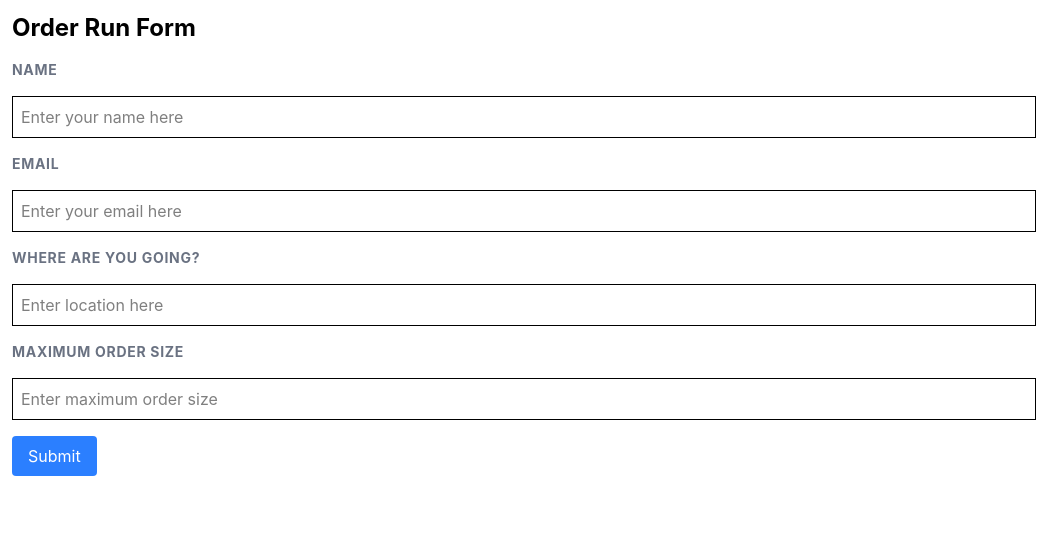
Scenario: OrderRunForm › shows a validation error and does not submit for an invalid email
Type "Alice" into the field with placeholder "Enter your name here" at (524,117), box [12,96,1036,138]
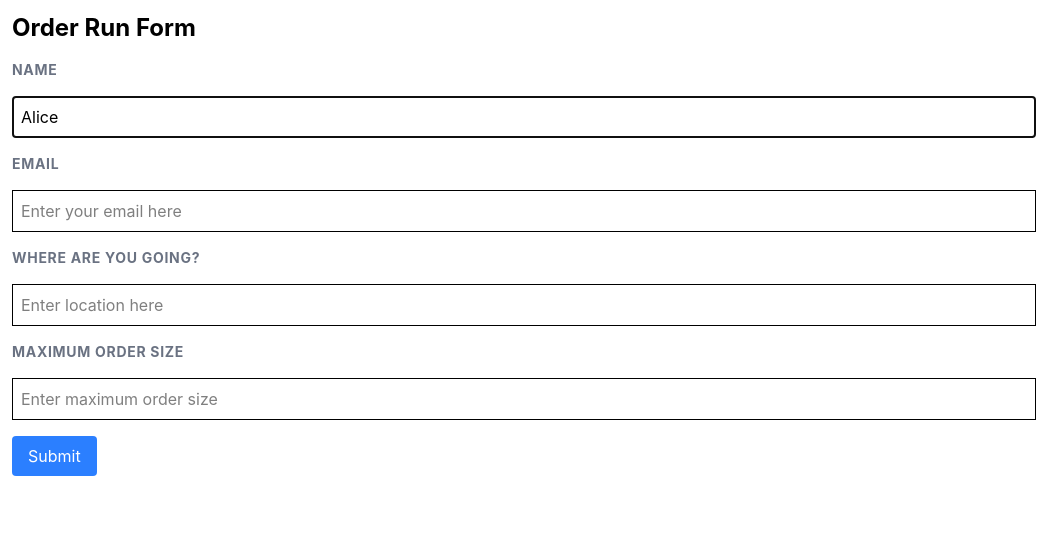
Type "not-an-email" into the field with placeholder "Enter your email here" at (524,211), box [12,190,1036,232]
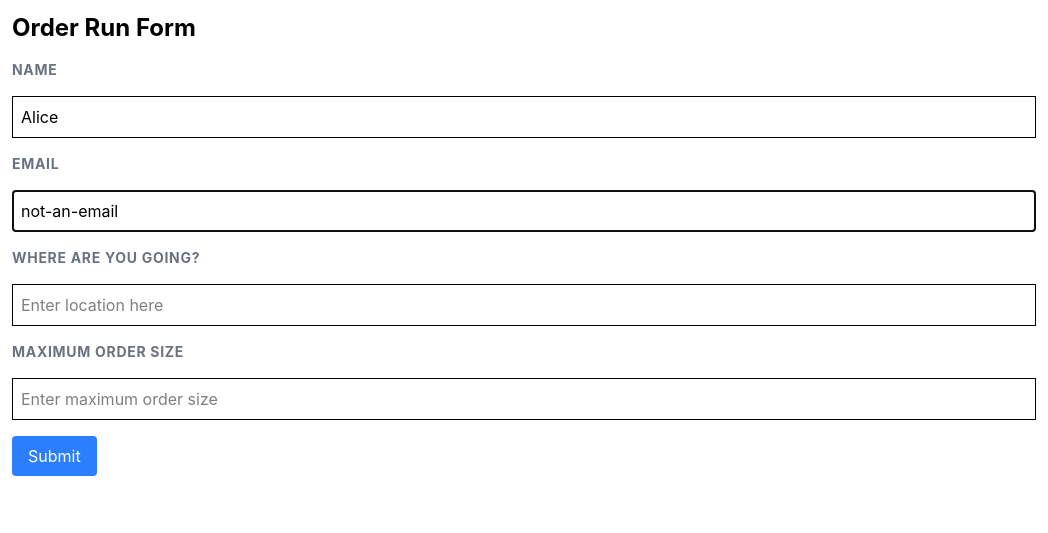
Type "Taco Place" into the field with placeholder "Enter location here" at (524,305), box [12,284,1036,326]
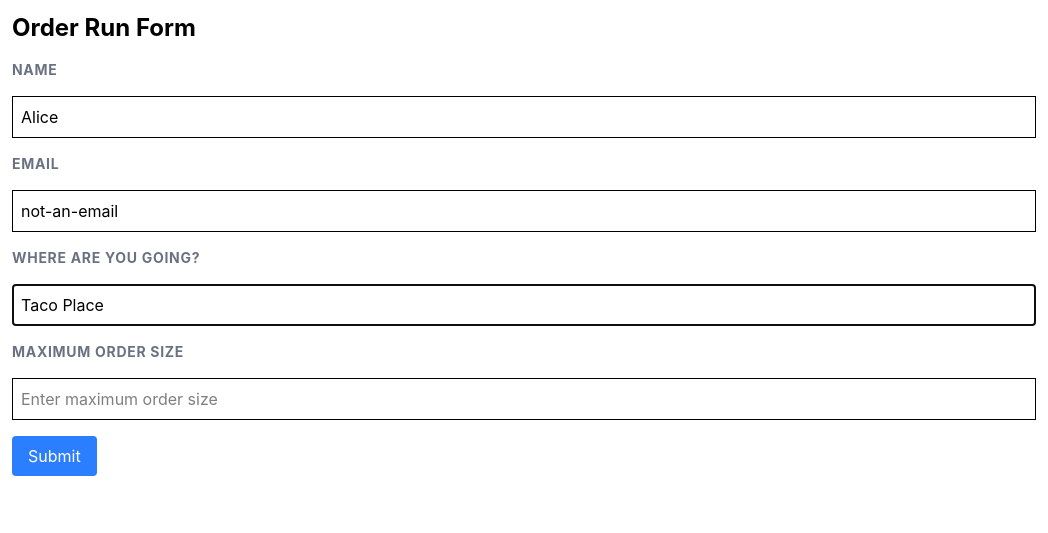
Type "5" into the number field with placeholder "Enter maximum order size" at (524,399), box [12,378,1036,420]
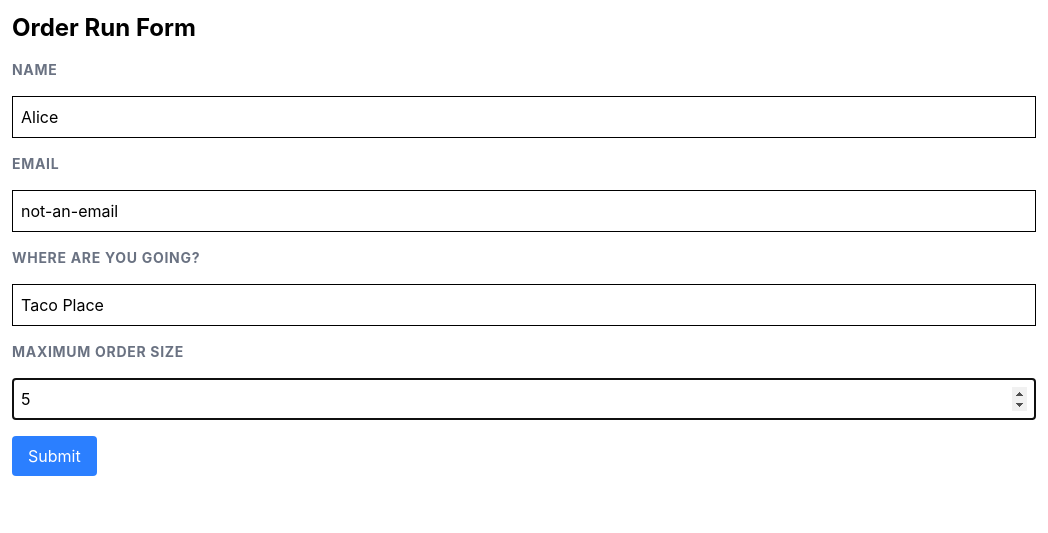
Click the button "Submit" at (54,456), box [12,436,97,476]
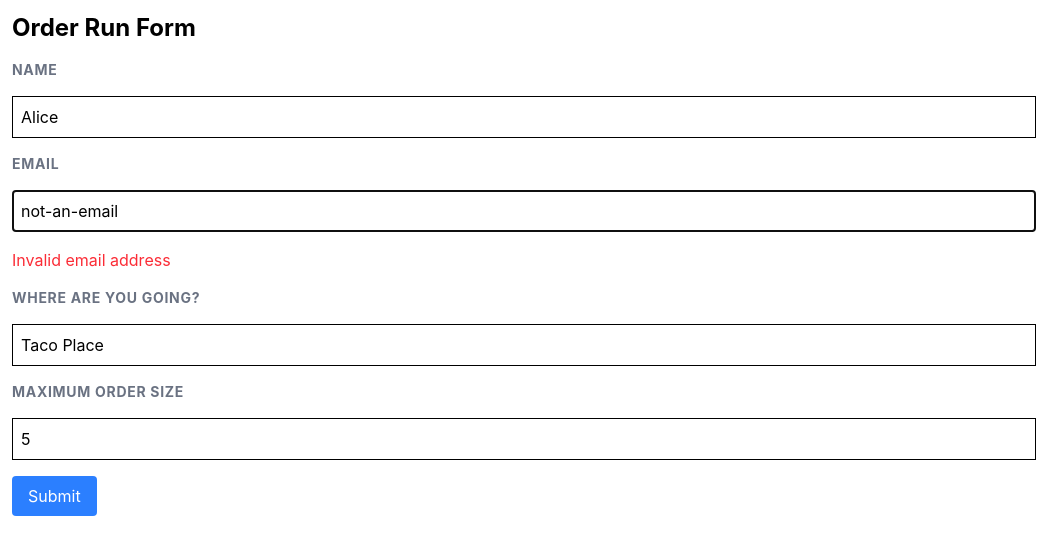
Expected: the text "Invalid email" is shown, [12,250,171,270]
